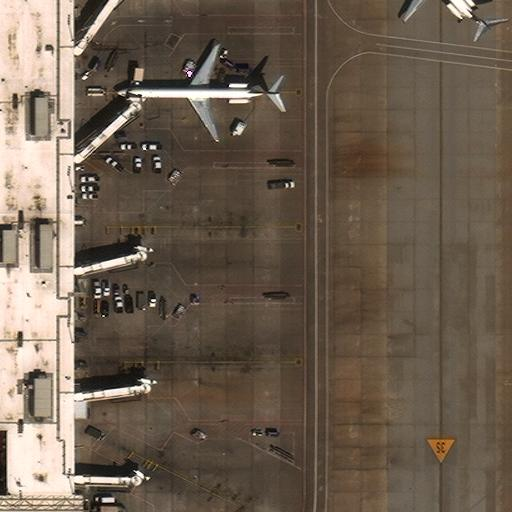Medium Civil Transport: (116, 46, 281, 140), (398, 0, 490, 30)
